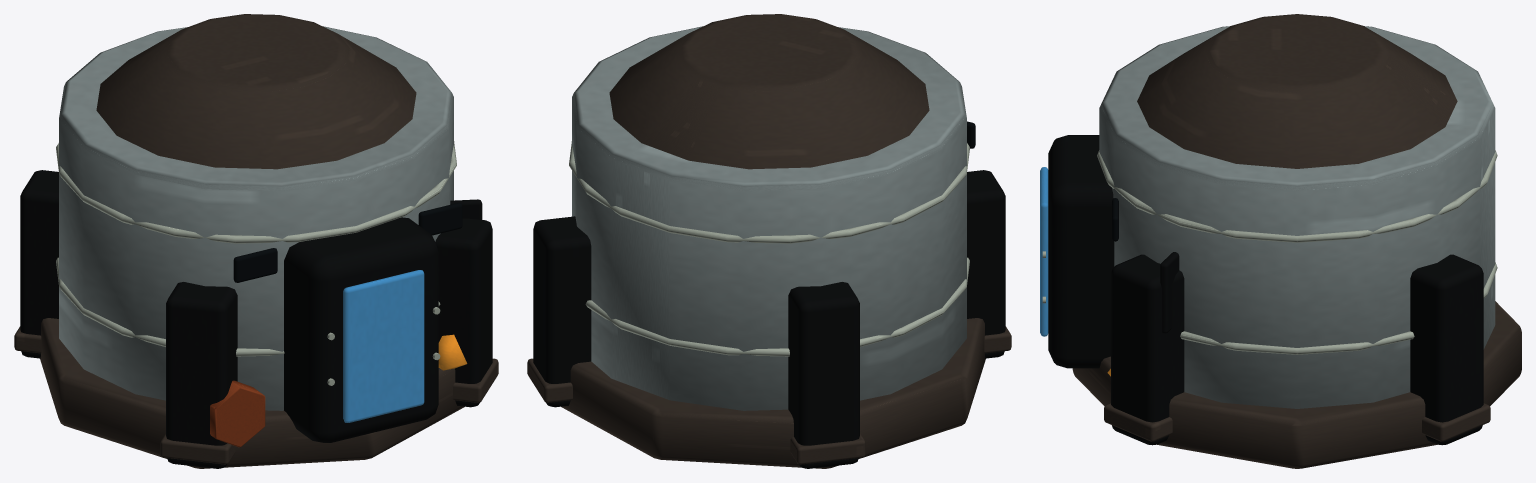
Rendered from bastion-shelter-standard.glb.
The picture shows the model from 3 angles, left to right: view 1: azimuth 30°, elevation 25°; view 2: azimuth 150°, elevation 25°; view 3: azimuth 270°, elevation 25°; orthographic projection.
Visible parts, largest first — view 1: Bastion_Shell, Bastion_Roof, Bastion_Airlock, Bastion_Foundation, Bastion_Door, Bastion_Buttress_2, Bastion_Buttress_3, Bastion_Buttress_1, Bastion_Pressure_Seam_High, PORT_Material.001, Bastion_Foot_2, Bastion_Pressure_Seam_Low (+5 smaller); view 2: Bastion_Shell, Bastion_Roof, Bastion_Foundation, Bastion_Buttress_1, Bastion_Buttress_0, Bastion_Buttress_2, Bastion_Pressure_Seam_High, Bastion_Pressure_Seam_Low, Bastion_Foot_1, Bastion_Foot_0, Bastion_Foot_2; view 3: Bastion_Shell, Bastion_Roof, Bastion_Foundation, Bastion_Airlock, Bastion_Buttress_0, Bastion_Buttress_3, Bastion_Pressure_Seam_High, Bastion_Pressure_Seam_Low, Bastion_Door, Bastion_Foot_3, Bastion_Foot_0, Bastion_Service_Hatch.
Boxes of the visible parts, box(x1,y1,x2,y2) form: Bastion_Shell: box(59, 26, 453, 410); Bastion_Roof: box(96, 14, 416, 169); Bastion_Airlock: box(284, 217, 438, 442); Bastion_Foundation: box(40, 318, 464, 468); Bastion_Door: box(343, 270, 424, 422); Bastion_Buttress_2: box(166, 282, 237, 468); Bastion_Buttress_3: box(435, 218, 492, 407); Bastion_Buttress_1: box(20, 170, 58, 358); Bastion_Pressure_Seam_High: box(56, 141, 456, 243); PORT_Material.001: box(210, 380, 265, 447); Bastion_Foot_2: box(160, 433, 235, 464); Bastion_Pressure_Seam_Low: box(56, 257, 440, 356); Bastion_Shell: box(572, 26, 966, 410); Bastion_Roof: box(609, 14, 929, 169); Bastion_Foundation: box(561, 318, 985, 468); Bastion_Buttress_1: box(788, 282, 859, 468); Bastion_Buttress_0: box(533, 216, 591, 407); Bastion_Buttress_2: box(967, 170, 1005, 358); Bastion_Pressure_Seam_High: box(569, 141, 969, 243); Bastion_Pressure_Seam_Low: box(585, 257, 969, 356); Bastion_Foot_1: box(790, 433, 865, 464); Bastion_Foot_0: box(527, 358, 572, 402); Bastion_Foot_2: box(984, 326, 1011, 353); Bastion_Shell: box(1099, 26, 1495, 408); Bastion_Roof: box(1137, 14, 1457, 168); Bastion_Foundation: box(1072, 301, 1521, 468); Bastion_Airlock: box(1048, 135, 1114, 368); Bastion_Buttress_0: box(1410, 254, 1483, 445); Bastion_Buttress_3: box(1111, 254, 1184, 445); Bastion_Pressure_Seam_High: box(1097, 150, 1497, 242); Bastion_Pressure_Seam_Low: box(1180, 262, 1497, 354); Bastion_Door: box(1040, 167, 1048, 336); Bastion_Foot_3: box(1104, 403, 1172, 441); Bastion_Foot_0: box(1422, 403, 1490, 441); Bastion_Service_Hatch: box(1160, 252, 1179, 333).
Bounding box in the file's own units: 1.27 × 1.02 × 1.36.
Materials: 8 (8 with a texture image).
